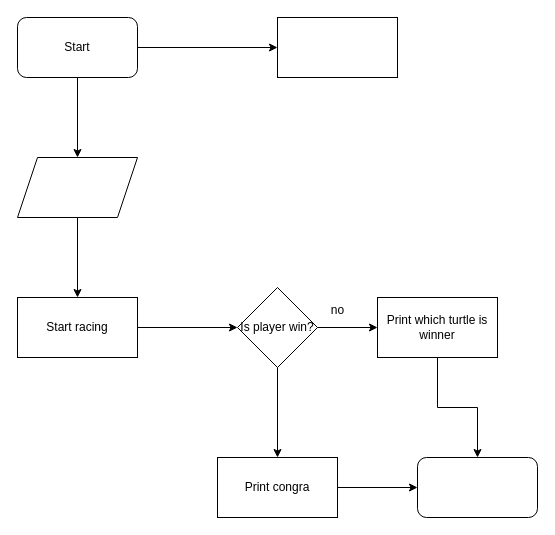
Some shapes in this 555 by 535 pixel diagram are drawn without their labels. Here are the shapes that lost their labels. From the top down, the centre of each, then its label:
At pixel 337 47: "6 turtle red, green, yellow, purple, blue, orange".
At pixel 77 187: "Bet for 1 turtle".
At pixel 477 487: "end".
